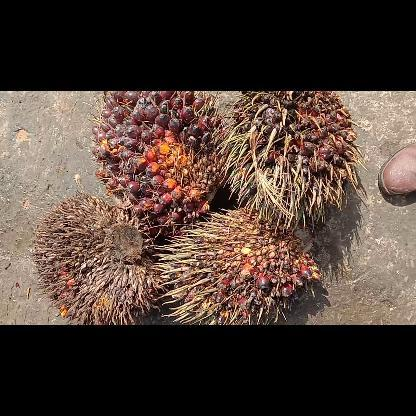Kurang masak: (216, 90, 367, 228)
TBS abnormal: (158, 207, 322, 324), (29, 191, 160, 324)
Terlalu masak: (90, 91, 228, 227)
